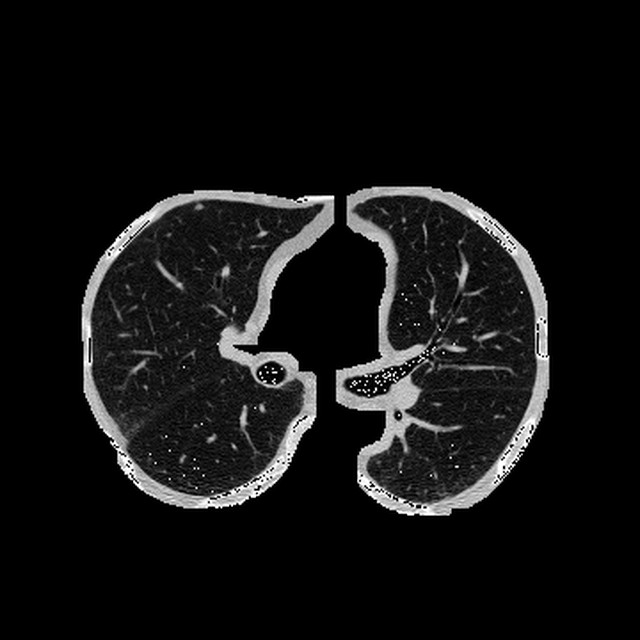PN: (196, 203, 203, 210)
